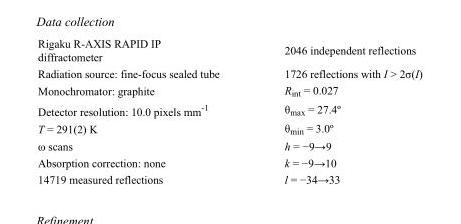table: (37, 36, 421, 185)
table column: (37, 36, 251, 185), (251, 36, 421, 185)
table row: (37, 36, 421, 64), (37, 99, 421, 119), (37, 81, 421, 99), (37, 119, 421, 137), (37, 64, 421, 81), (37, 137, 421, 154), (37, 154, 421, 170), (37, 170, 421, 185)
